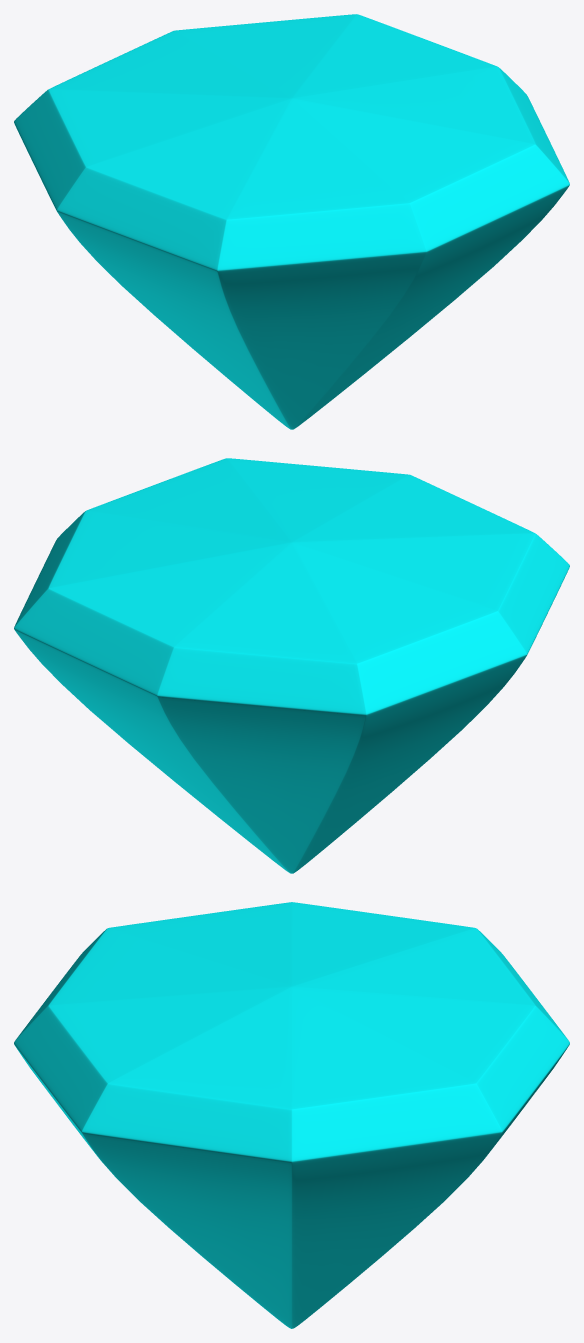
The model's file is Gem.fbx.
The picture shows the model from 3 angles, top to bottom: view 1: azimuth 30°, elevation 25°; view 2: azimuth 150°, elevation 25°; view 3: azimuth 270°, elevation 25°; orthographic projection. The views are drawn at different scales.
Parts seen in each view (by area): view 1: pPlane1; view 2: pPlane1; view 3: pPlane1.
Part boxes in pixels (left/top/right/bottom): pPlane1: left=14, top=14, right=569, bottom=429; pPlane1: left=14, top=458, right=569, bottom=873; pPlane1: left=14, top=902, right=569, bottom=1328.
Size of the model in its own units: 8.2 by 5.51 by 8.13.
